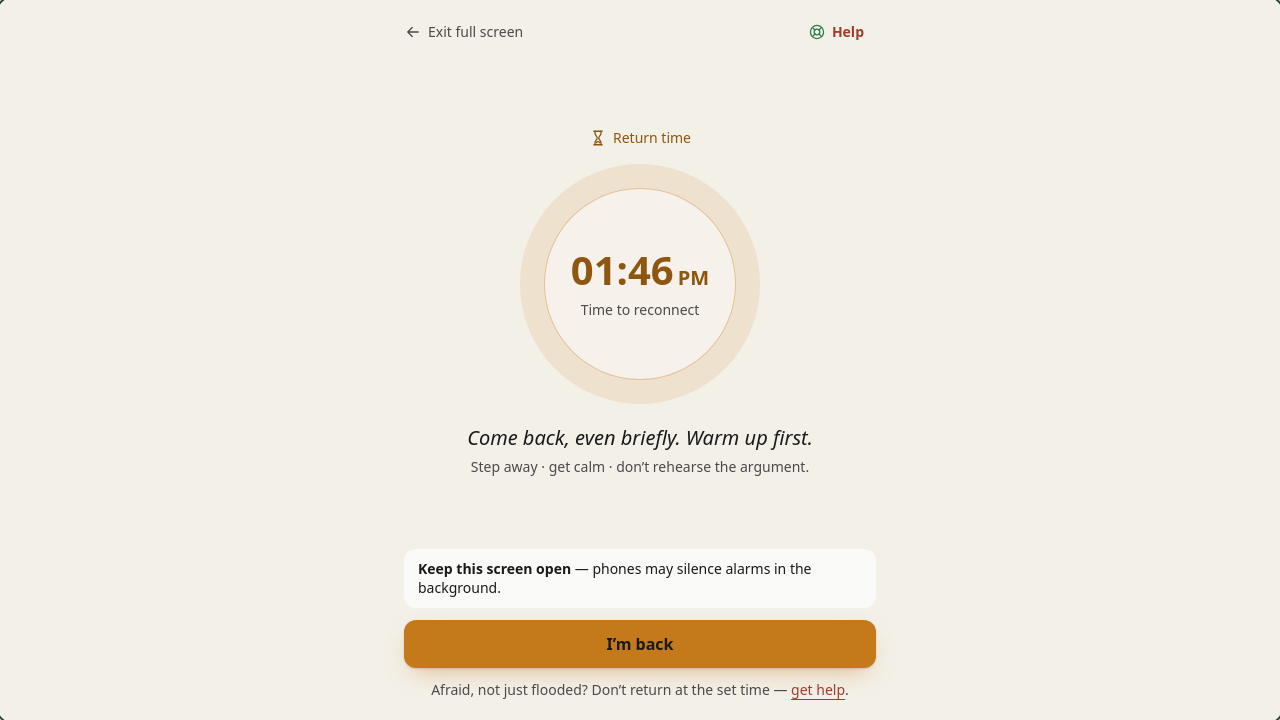
it: restart cue uses plain step names (M7) › after “I’m back”
The image size is (1280, 720).
Click the button "I’m back" at (640, 644), box [404,620,876,668]
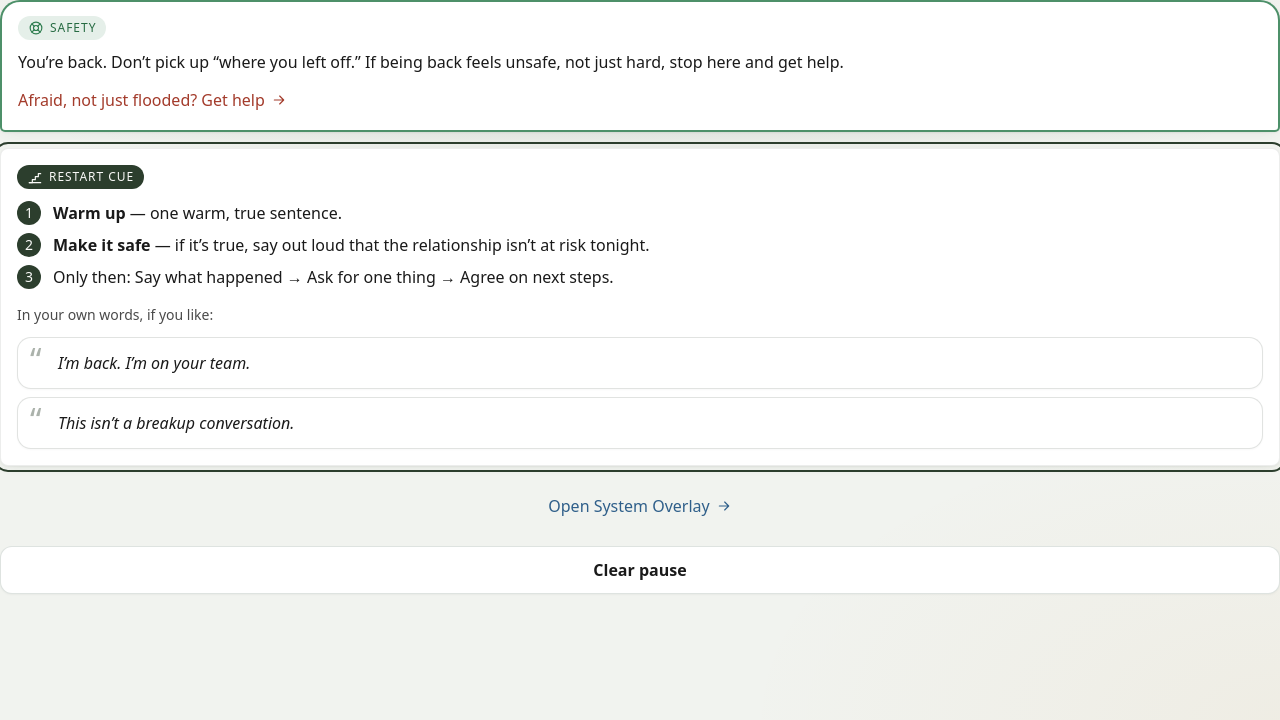
Now the element with id "restart-cue" shows "Warm up", box [53,202,126,224]
Now the element with id "restart-cue" shows "Make it safe", box [53,234,150,256]
Now the element with id "restart-cue" shows "Say what happened → Ask for one thing → Agree on next steps", box [53,266,614,288]
